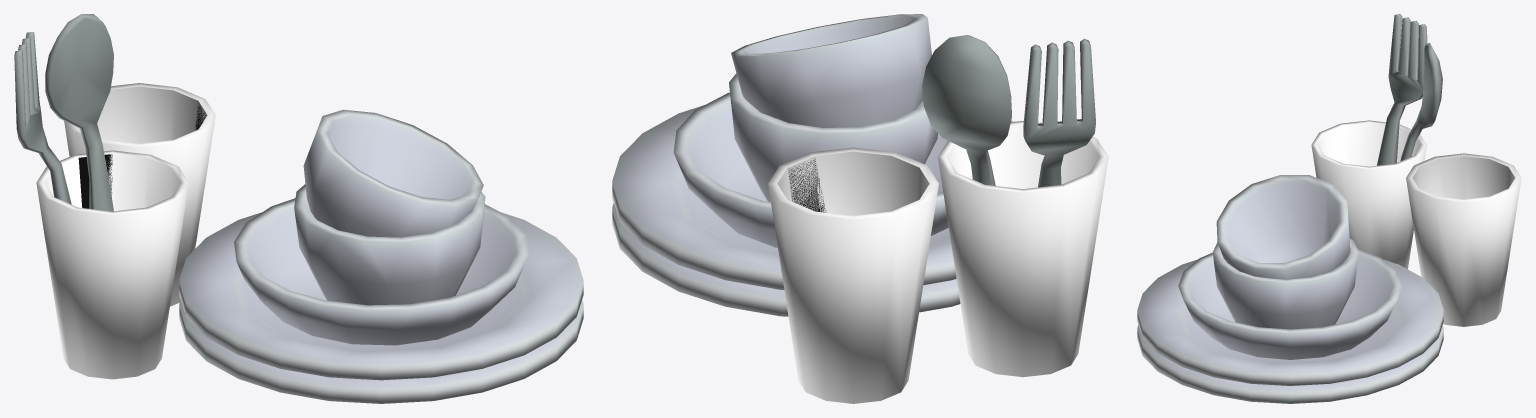
Rendered from FtrDishes.glb.
3 views of the same model, side by side, from view 1: azimuth 30°, elevation 25°; view 2: azimuth 150°, elevation 25°; view 3: azimuth 270°, elevation 25° (orthographic). The views are drawn at different scales.
Visible parts, largest first — view 1: dishLarge_low__mReBody, cupF_low__mGlass, cupR_low__mGlassR; view 2: dishLarge_low__mReBody, cupF_low__mGlass, cupR_low__mGlassR; view 3: dishLarge_low__mReBody, cupF_low__mGlass.
Part boxes in pixels (<box>): dishLarge_low__mReBody: <box>14,14,583,403</box>; cupF_low__mGlass: <box>36,83,215,379</box>; cupR_low__mGlassR: <box>78,103,206,208</box>; dishLarge_low__mReBody: <box>612,14,1095,316</box>; cupF_low__mGlass: <box>768,120,1108,403</box>; cupR_low__mGlassR: <box>788,158,826,212</box>; dishLarge_low__mReBody: <box>1137,14,1443,403</box>; cupF_low__mGlass: <box>1311,120,1521,326</box>.
Bounding box in the file's own units: 7.37 × 4.66 × 6.85.
3 materials, 2 textured.
